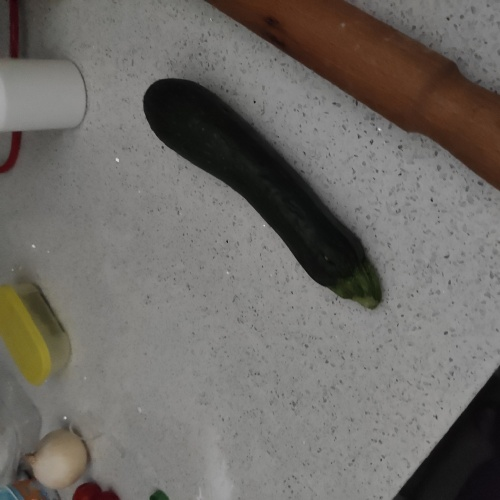zucchine: (149, 78, 389, 308)
